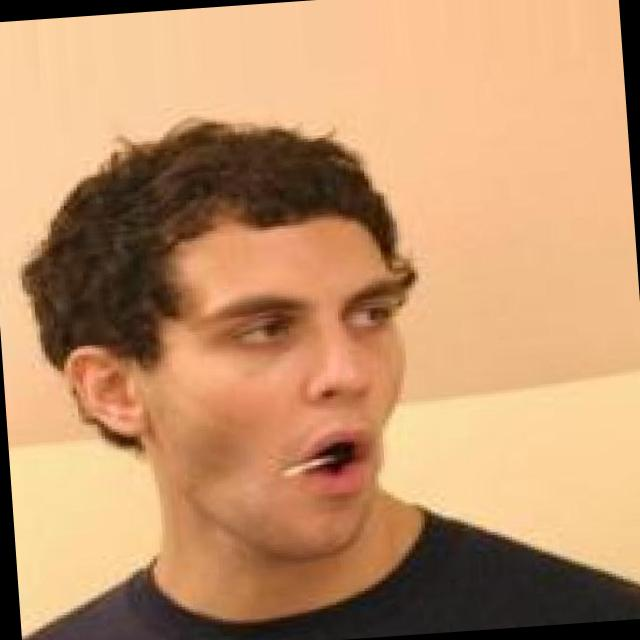bareface: (41, 127, 428, 568)
